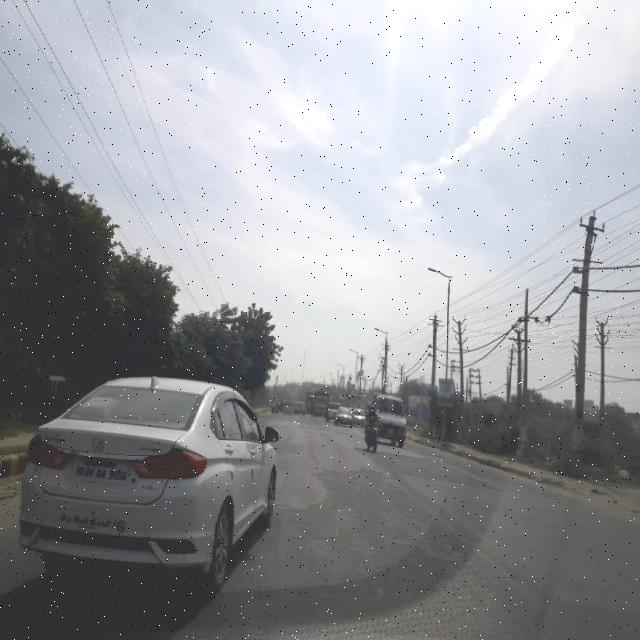D40: (375, 494, 476, 572)
